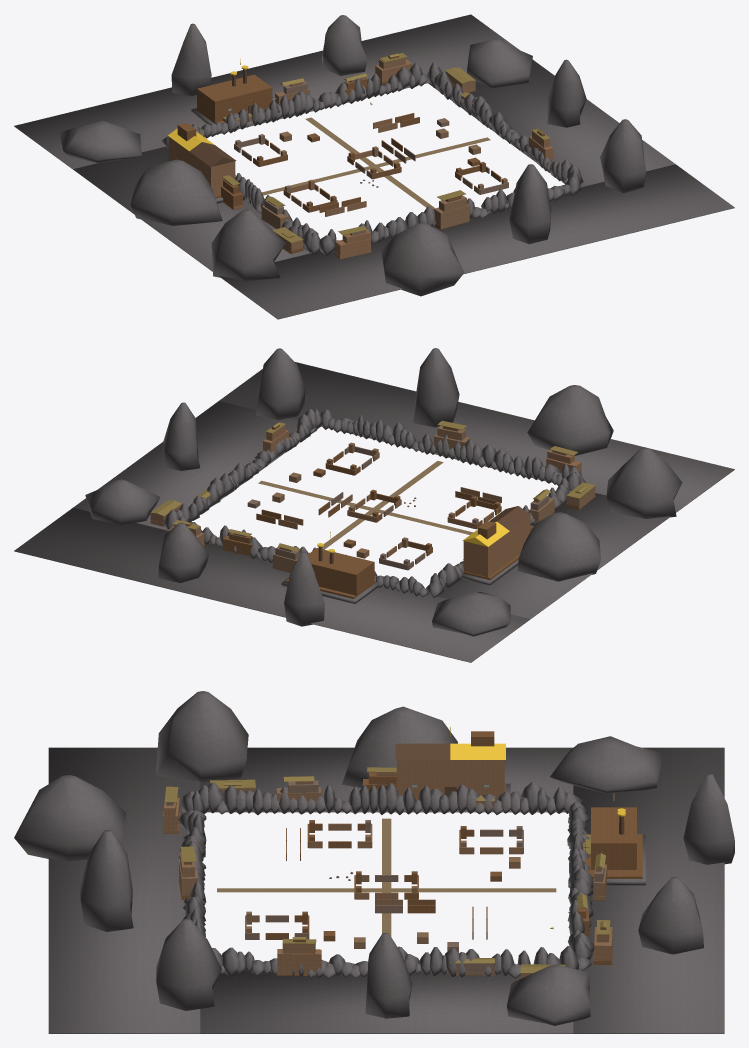
The model's file is saisekiba-lod2.glb.
The picture shows the model from 3 angles, top to bottom: view 1: azimuth 30°, elevation 25°; view 2: azimuth 150°, elevation 25°; view 3: azimuth 270°, elevation 25°; orthographic projection. The views are drawn at different scales.
Visible parts, largest first — view 1: HB_saisekiba_LOD2_terrain, HB_saisekiba_LOD2_wall_warm, HB_saisekiba_LOD2_wall, HB_saisekiba_LOD2_LANDMARK_0_wall_alt, HB_saisekiba_LOD2_wall_weathered, HB_saisekiba_LOD2_road, HB_saisekiba_LOD2_roof, HB_saisekiba_LOD2_wall_alt, HB_saisekiba_LOD2_wall_cool, HB_saisekiba_LOD2_LANDMARK_1_wall, HB_saisekiba_LOD2_LANDMARK_1_trim; view 2: HB_saisekiba_LOD2_terrain, HB_saisekiba_LOD2_wall_warm, HB_saisekiba_LOD2_LANDMARK_0_wall_alt, HB_saisekiba_LOD2_wall, HB_saisekiba_LOD2_LANDMARK_1_wall, HB_saisekiba_LOD2_wall_weathered, HB_saisekiba_LOD2_road, HB_saisekiba_LOD2_roof, HB_saisekiba_LOD2_wall_cool, HB_saisekiba_LOD2_wall_alt, HB_saisekiba_LOD2_LANDMARK_1_trim; view 3: HB_saisekiba_LOD2_terrain, HB_saisekiba_LOD2_wall, HB_saisekiba_LOD2_LANDMARK_1_wall, HB_saisekiba_LOD2_LANDMARK_0_wall_alt, HB_saisekiba_LOD2_road, HB_saisekiba_LOD2_roof, HB_saisekiba_LOD2_wall_warm, HB_saisekiba_LOD2_wall_cool, HB_saisekiba_LOD2_wall_weathered, HB_saisekiba_LOD2_wall_alt, HB_saisekiba_LOD2_LANDMARK_1_trim, HB_saisekiba_LOD2_LANDMARK_1_accent.
Part boxes in pixels (bbox=[...]): HB_saisekiba_LOD2_terrain: bbox=[14, 14, 734, 319]; HB_saisekiba_LOD2_wall_warm: bbox=[233, 57, 483, 253]; HB_saisekiba_LOD2_wall: bbox=[223, 59, 553, 258]; HB_saisekiba_LOD2_LANDMARK_0_wall_alt: bbox=[195, 74, 277, 123]; HB_saisekiba_LOD2_wall_weathered: bbox=[223, 77, 501, 253]; HB_saisekiba_LOD2_road: bbox=[262, 117, 490, 209]; HB_saisekiba_LOD2_roof: bbox=[222, 53, 550, 243]; HB_saisekiba_LOD2_wall_alt: bbox=[221, 55, 544, 259]; HB_saisekiba_LOD2_wall_cool: bbox=[234, 77, 508, 235]; HB_saisekiba_LOD2_LANDMARK_1_wall: bbox=[168, 136, 235, 196]; HB_saisekiba_LOD2_LANDMARK_1_trim: bbox=[189, 142, 236, 166]; HB_saisekiba_LOD2_terrain: bbox=[14, 348, 734, 662]; HB_saisekiba_LOD2_wall_warm: bbox=[150, 425, 595, 572]; HB_saisekiba_LOD2_LANDMARK_0_wall_alt: bbox=[285, 548, 375, 598]; HB_saisekiba_LOD2_wall: bbox=[150, 425, 581, 567]; HB_saisekiba_LOD2_LANDMARK_1_wall: bbox=[463, 516, 530, 577]; HB_saisekiba_LOD2_wall_weathered: bbox=[203, 451, 579, 556]; HB_saisekiba_LOD2_road: bbox=[258, 461, 473, 549]; HB_saisekiba_LOD2_roof: bbox=[150, 420, 595, 565]; HB_saisekiba_LOD2_wall_cool: bbox=[206, 446, 566, 570]; HB_saisekiba_LOD2_wall_alt: bbox=[150, 424, 595, 573]; HB_saisekiba_LOD2_LANDMARK_1_trim: bbox=[489, 506, 531, 530]; HB_saisekiba_LOD2_terrain: bbox=[14, 691, 734, 1033]; HB_saisekiba_LOD2_wall: bbox=[163, 772, 612, 978]; HB_saisekiba_LOD2_LANDMARK_1_wall: bbox=[396, 760, 504, 799]; HB_saisekiba_LOD2_LANDMARK_0_wall_alt: bbox=[585, 807, 642, 878]; HB_saisekiba_LOD2_road: bbox=[217, 818, 556, 936]; HB_saisekiba_LOD2_roof: bbox=[164, 767, 610, 973]; HB_saisekiba_LOD2_wall_warm: bbox=[179, 781, 609, 978]; HB_saisekiba_LOD2_wall_cool: bbox=[166, 780, 604, 975]; HB_saisekiba_LOD2_wall_weathered: bbox=[265, 772, 611, 964]; HB_saisekiba_LOD2_wall_alt: bbox=[163, 779, 612, 975]; HB_saisekiba_LOD2_LANDMARK_1_trim: bbox=[395, 743, 456, 796]; HB_saisekiba_LOD2_LANDMARK_1_accent: bbox=[450, 727, 505, 759].
Size of the model in its own units: 589 by 85.89 by 619.
Materials: 12 (11 with a texture image).
